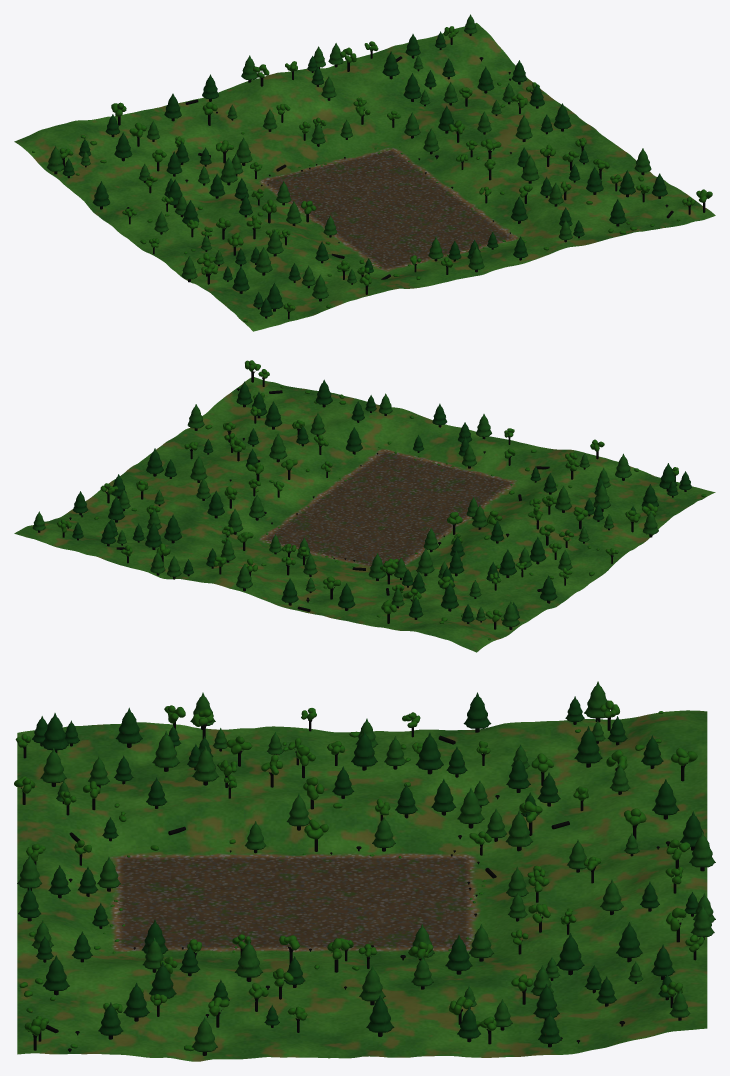
Rendered from surroundings_13x23.glb.
3 views of the same model, one above another, from view 1: azimuth 30°, elevation 25°; view 2: azimuth 150°, elevation 25°; view 3: azimuth 270°, elevation 25° (orthographic). The views are drawn at different scales.
Parts seen in each view (by area): view 1: ground, props; view 2: ground, props; view 3: ground, props.
Boxes of the visible parts, x1,y1,x2,y2 form: ground: (14, 23, 715, 331); props: (32, 14, 712, 322); ground: (14, 377, 715, 652); props: (32, 360, 705, 640); ground: (17, 710, 707, 1061); props: (14, 681, 715, 1055).
Bounding box in the file's own units: 57.98 × 6.01 × 51.88.
Materials: 3 (3 with a texture image).
